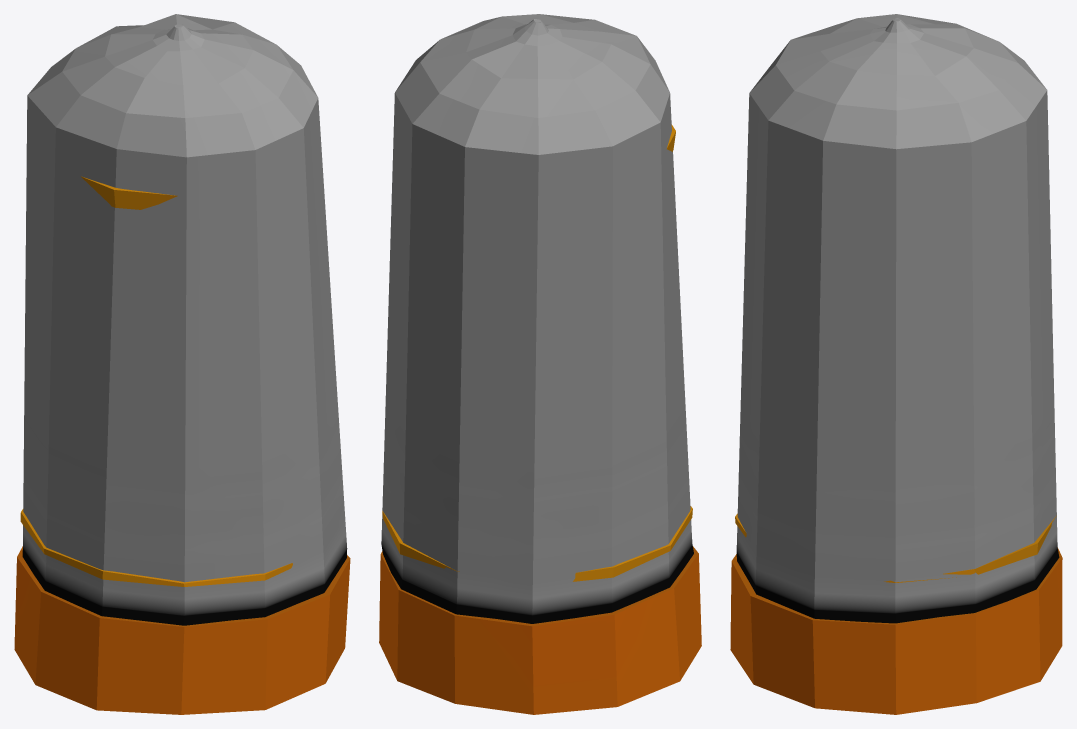
File: obj_num07_base.gltf
The picture shows the model from 3 angles, left to right: view 1: azimuth 30°, elevation 25°; view 2: azimuth 150°, elevation 25°; view 3: azimuth 270°, elevation 25°; orthographic projection.
Parts seen in each view (by area): view 1: obj_num07_base; view 2: obj_num07_base; view 3: obj_num07_base.
Part boxes in pixels (x1,y1,x2,y2): obj_num07_base: (14,14,350,714); obj_num07_base: (379,14,701,714); obj_num07_base: (730,14,1062,714).
Size of what is drawn, in the model's own units: 0.3415 by 0.719 by 0.3439.
2 materials, 2 textured.
